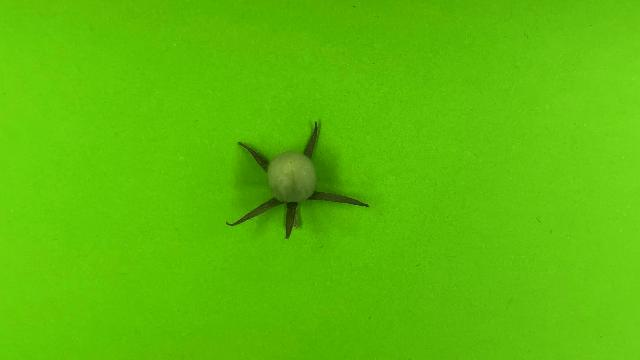Fruit Maturation: (265, 150, 318, 204)
